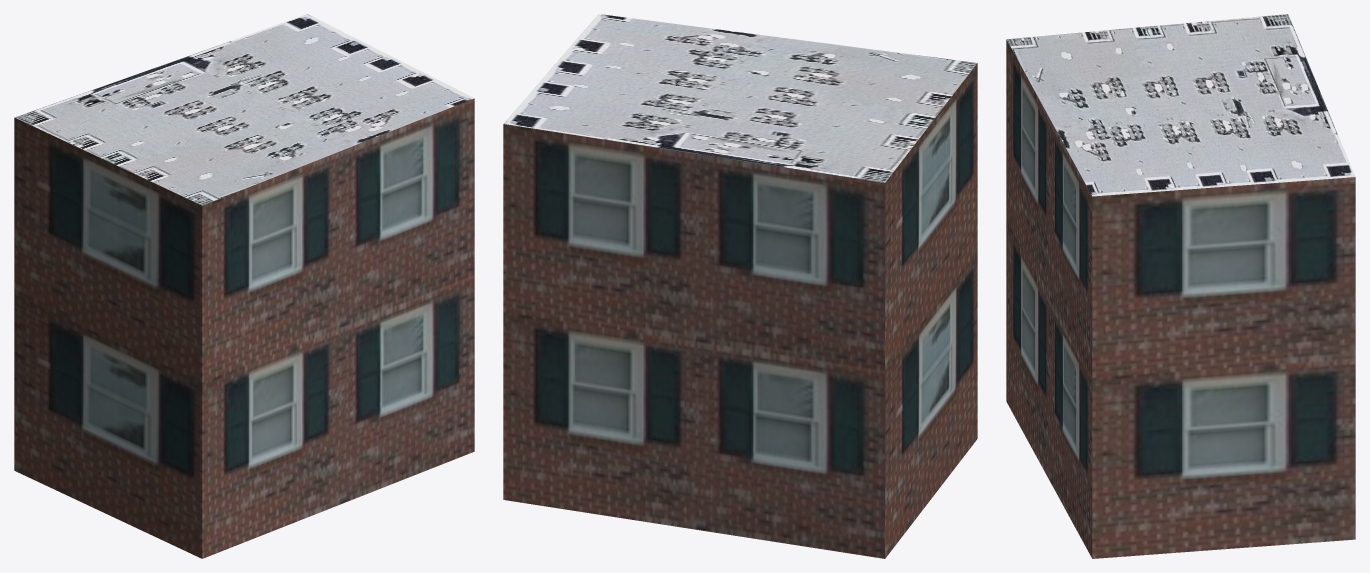
The model's file is ResTex__2752.fbx.
The picture shows the model from 3 angles, left to right: view 1: azimuth 30°, elevation 25°; view 2: azimuth 150°, elevation 25°; view 3: azimuth 270°, elevation 25°; orthographic projection. The views are drawn at different scales.
Visible parts, largest first — view 1: CityEngineMaterial_14_m, CityEngineMaterial_m; view 2: CityEngineMaterial_14_m, CityEngineMaterial_m; view 3: CityEngineMaterial_14_m, CityEngineMaterial_m.
Part boxes in pixels (x1,y1,x2,y2): CityEngineMaterial_14_m: (14, 98, 474, 558); CityEngineMaterial_m: (15, 14, 473, 205); CityEngineMaterial_14_m: (503, 63, 977, 558); CityEngineMaterial_m: (503, 14, 976, 182); CityEngineMaterial_14_m: (1006, 39, 1355, 558); CityEngineMaterial_m: (1006, 14, 1355, 196).
Bounding box in the file's own units: 6.48 × 6 × 5.24.
2 materials, 2 textured.
